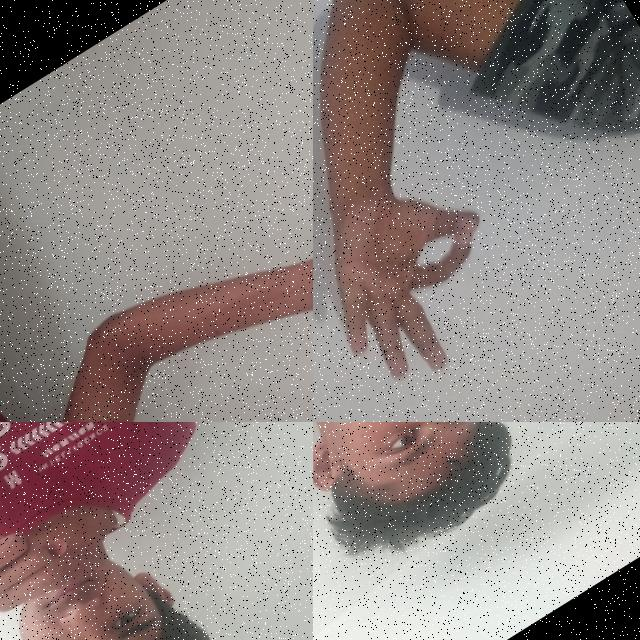Fist Mouth: (0, 433, 248, 640), (313, 422, 597, 600)
Okay: (313, 119, 552, 416)
